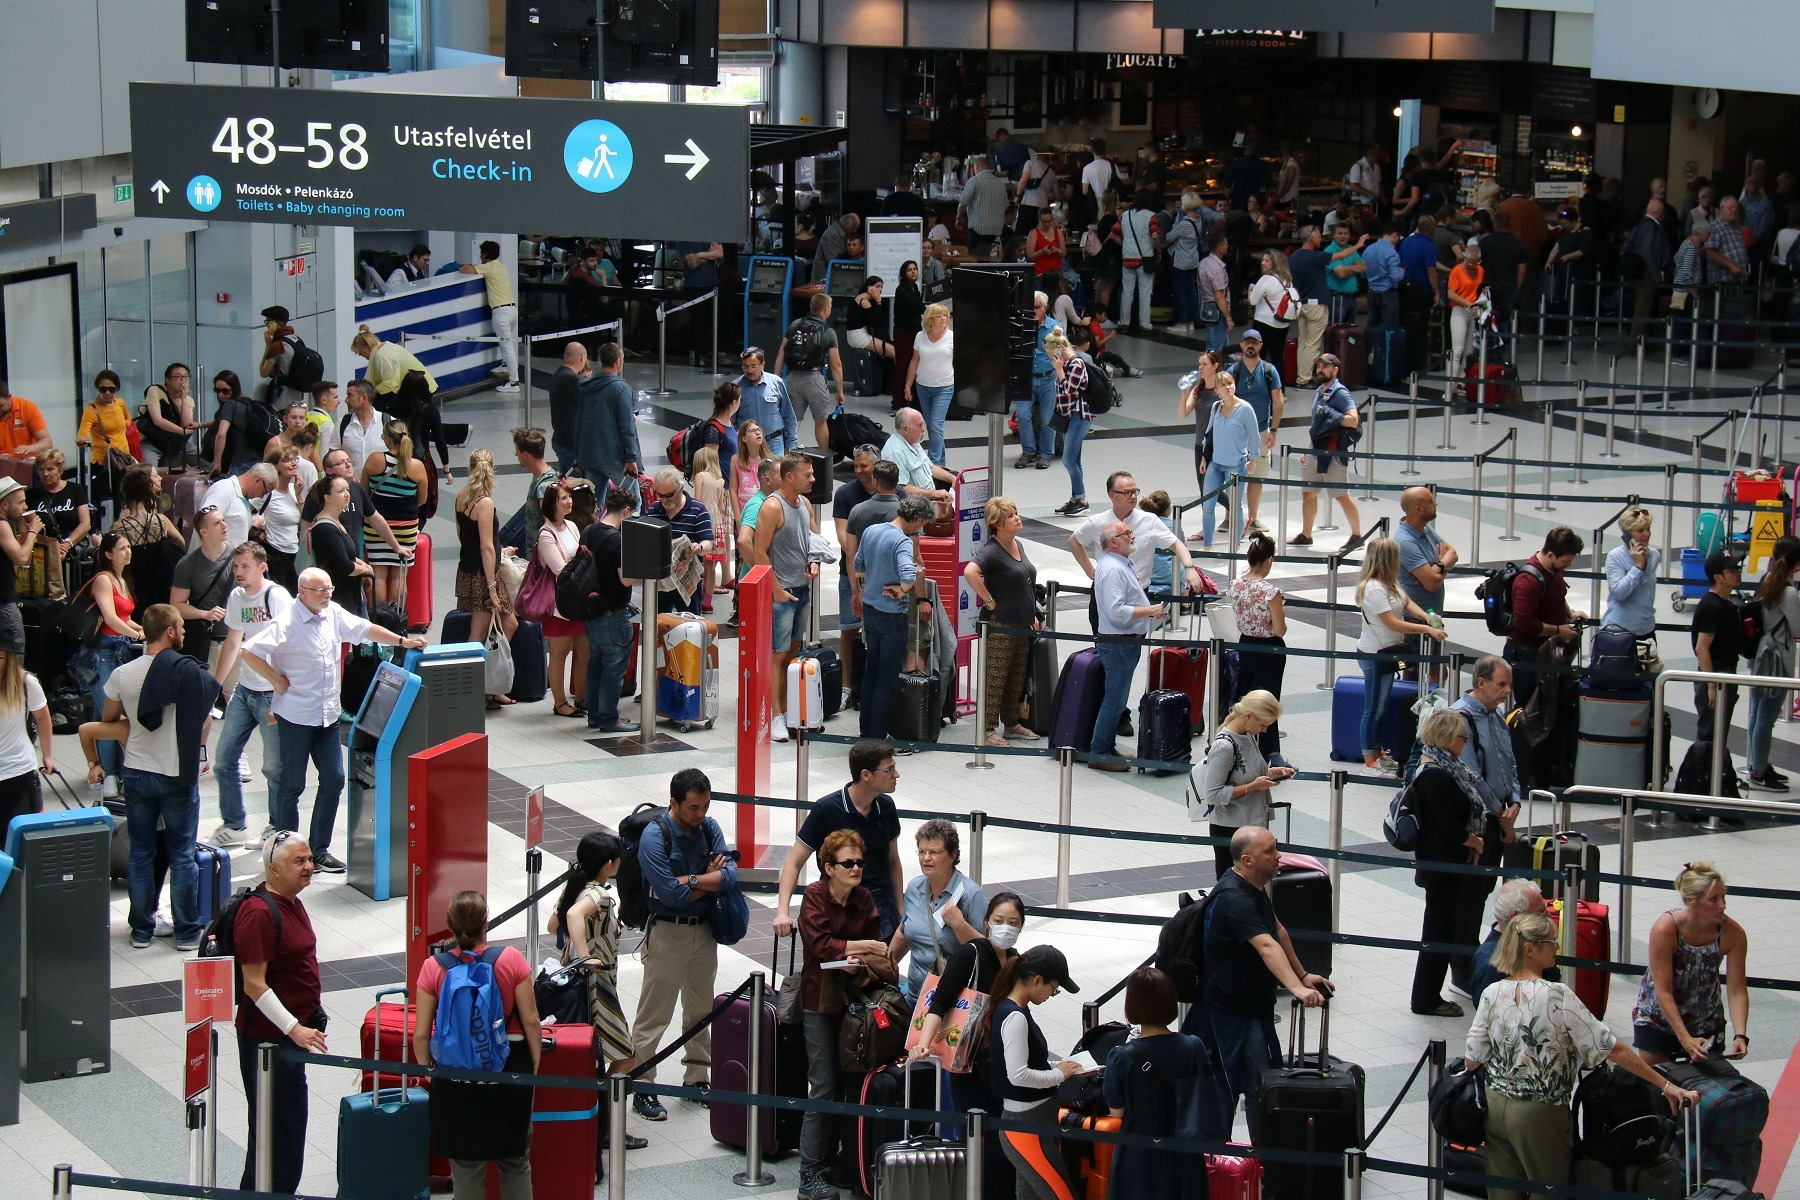backpack: (190, 879, 299, 1033), (426, 948, 523, 1082), (606, 798, 688, 928), (1154, 890, 1234, 1007), (556, 530, 630, 627), (1473, 556, 1546, 642), (1068, 355, 1131, 424), (265, 328, 326, 395), (785, 313, 836, 372)
bag: (911, 942, 997, 1081), (1423, 1048, 1503, 1150), (1660, 213, 1714, 359), (1359, 221, 1411, 365), (834, 976, 914, 1070), (1705, 192, 1750, 350), (1580, 621, 1651, 705), (511, 547, 562, 630), (1256, 276, 1310, 328)
luggage: (1246, 995, 1375, 1200), (1522, 799, 1623, 1012), (340, 992, 439, 1200), (702, 984, 816, 1156), (510, 1013, 614, 1200), (1259, 795, 1343, 996), (1560, 672, 1676, 804), (1323, 667, 1450, 765), (888, 585, 956, 762), (1136, 605, 1196, 781), (643, 602, 726, 727), (1043, 642, 1123, 765), (162, 833, 239, 936), (782, 639, 850, 744)
people: (233, 568, 434, 884), (1157, 819, 1339, 1148), (623, 770, 768, 1135), (405, 890, 555, 1200), (214, 833, 340, 1200), (1376, 698, 1510, 1016), (100, 605, 219, 938), (194, 541, 302, 842), (1096, 962, 1230, 1200), (1634, 853, 1762, 1099), (1486, 530, 1599, 795), (993, 947, 1108, 1200), (842, 493, 957, 733), (62, 541, 165, 793), (562, 484, 653, 744), (893, 832, 996, 1055), (959, 484, 1043, 753), (1343, 532, 1442, 758), (1680, 536, 1756, 824), (1074, 521, 1153, 778), (348, 422, 442, 636), (446, 456, 522, 707), (1213, 532, 1293, 767), (1, 612, 73, 861), (1028, 330, 1125, 513), (1294, 352, 1374, 562), (757, 456, 828, 685), (1423, 233, 1502, 430), (886, 296, 971, 464), (579, 339, 656, 518), (1193, 365, 1260, 561), (16, 444, 99, 601), (456, 241, 534, 396), (1753, 530, 1800, 791), (776, 288, 848, 448), (300, 478, 371, 635), (726, 345, 802, 490), (197, 462, 282, 587), (1105, 187, 1171, 341), (245, 299, 322, 430), (1594, 505, 1659, 655), (1246, 238, 1308, 390), (1226, 335, 1285, 485), (836, 275, 908, 387), (540, 342, 599, 479), (133, 365, 203, 473), (953, 150, 1019, 264), (883, 253, 936, 384), (79, 373, 140, 488), (1194, 225, 1242, 365), (1019, 205, 1073, 304)
